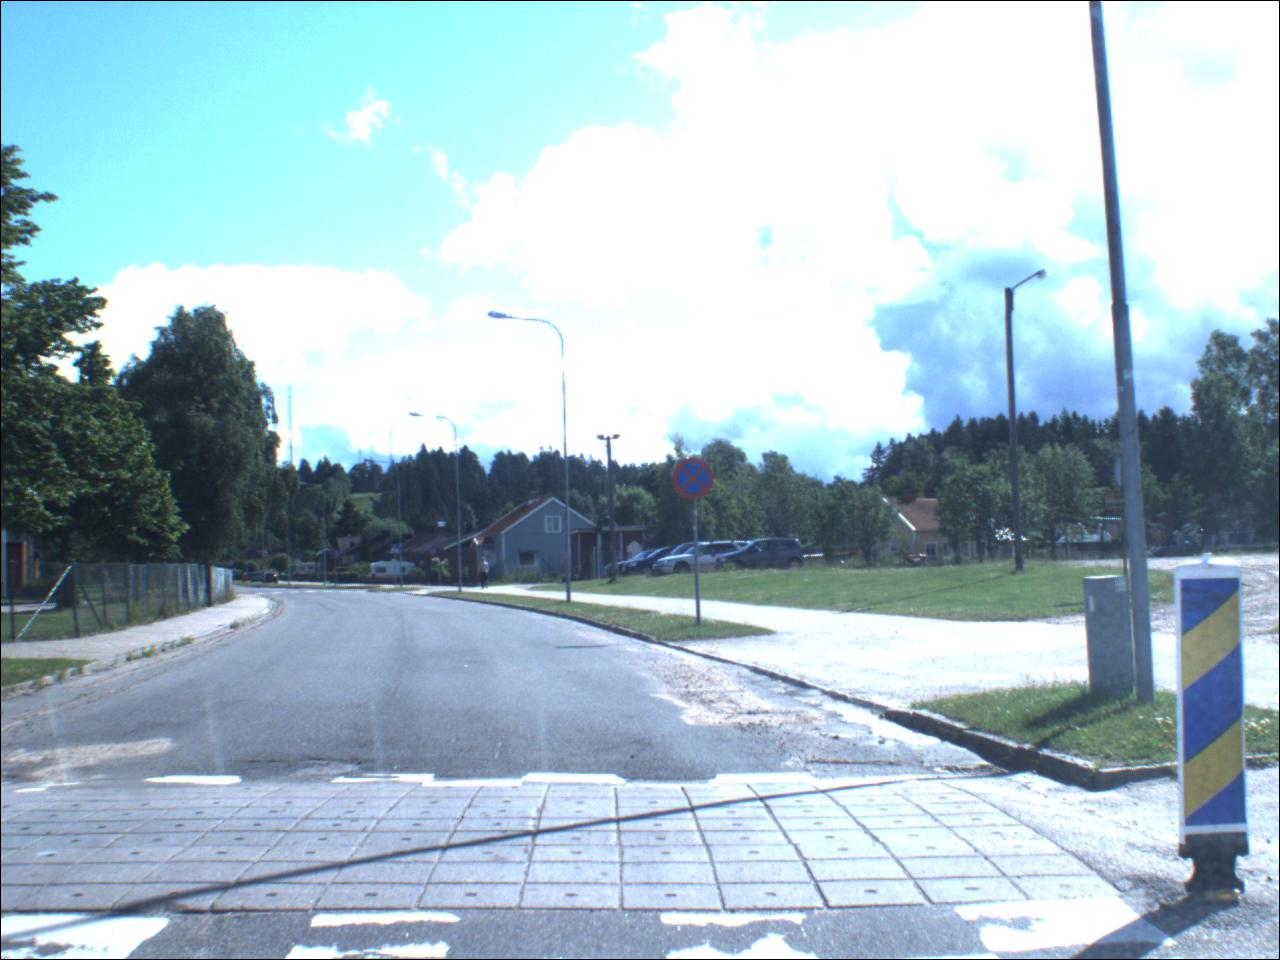NO_PARKING: (331, 550, 343, 562), (430, 549, 439, 558)
NO_STOPPING_NO_STANDING: (673, 456, 720, 503)
PEDESTRIAN_CROSSING: (391, 545, 404, 557)
